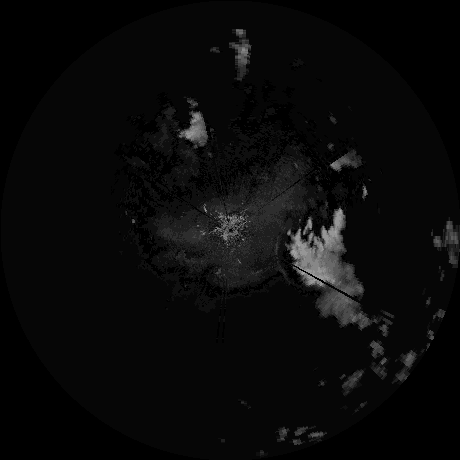frontgust: (273, 236, 294, 284)
